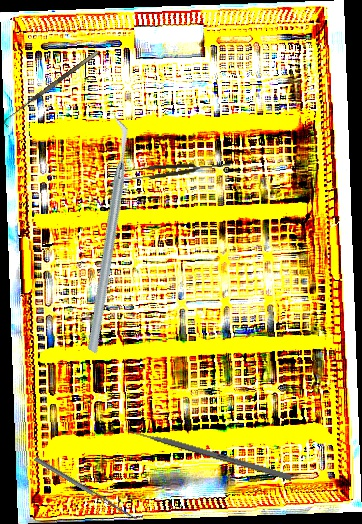Chopper: (2, 115, 210, 355)
Hook Surgical: (1, 50, 103, 128)
Pusher: (116, 424, 293, 481)
Spatula Surgical: (33, 452, 144, 524)
Tissue Forceps: (123, 158, 232, 182)
